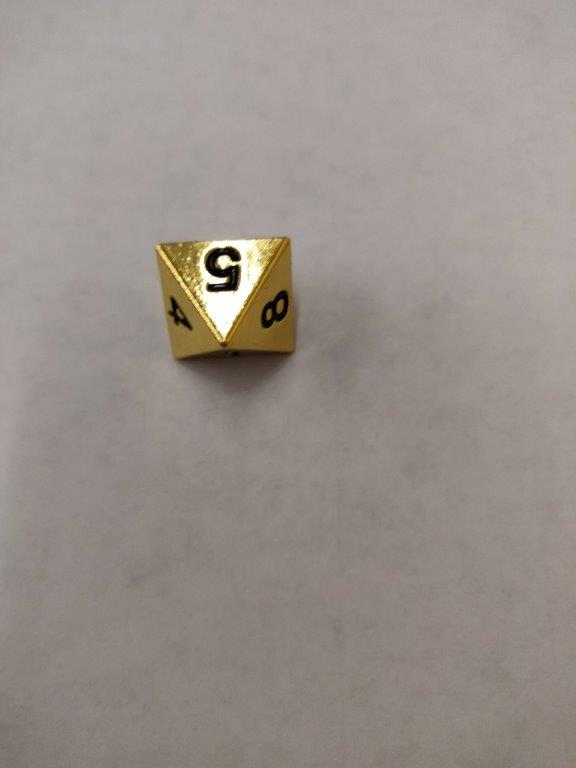d8-5: (154, 232, 300, 362)
